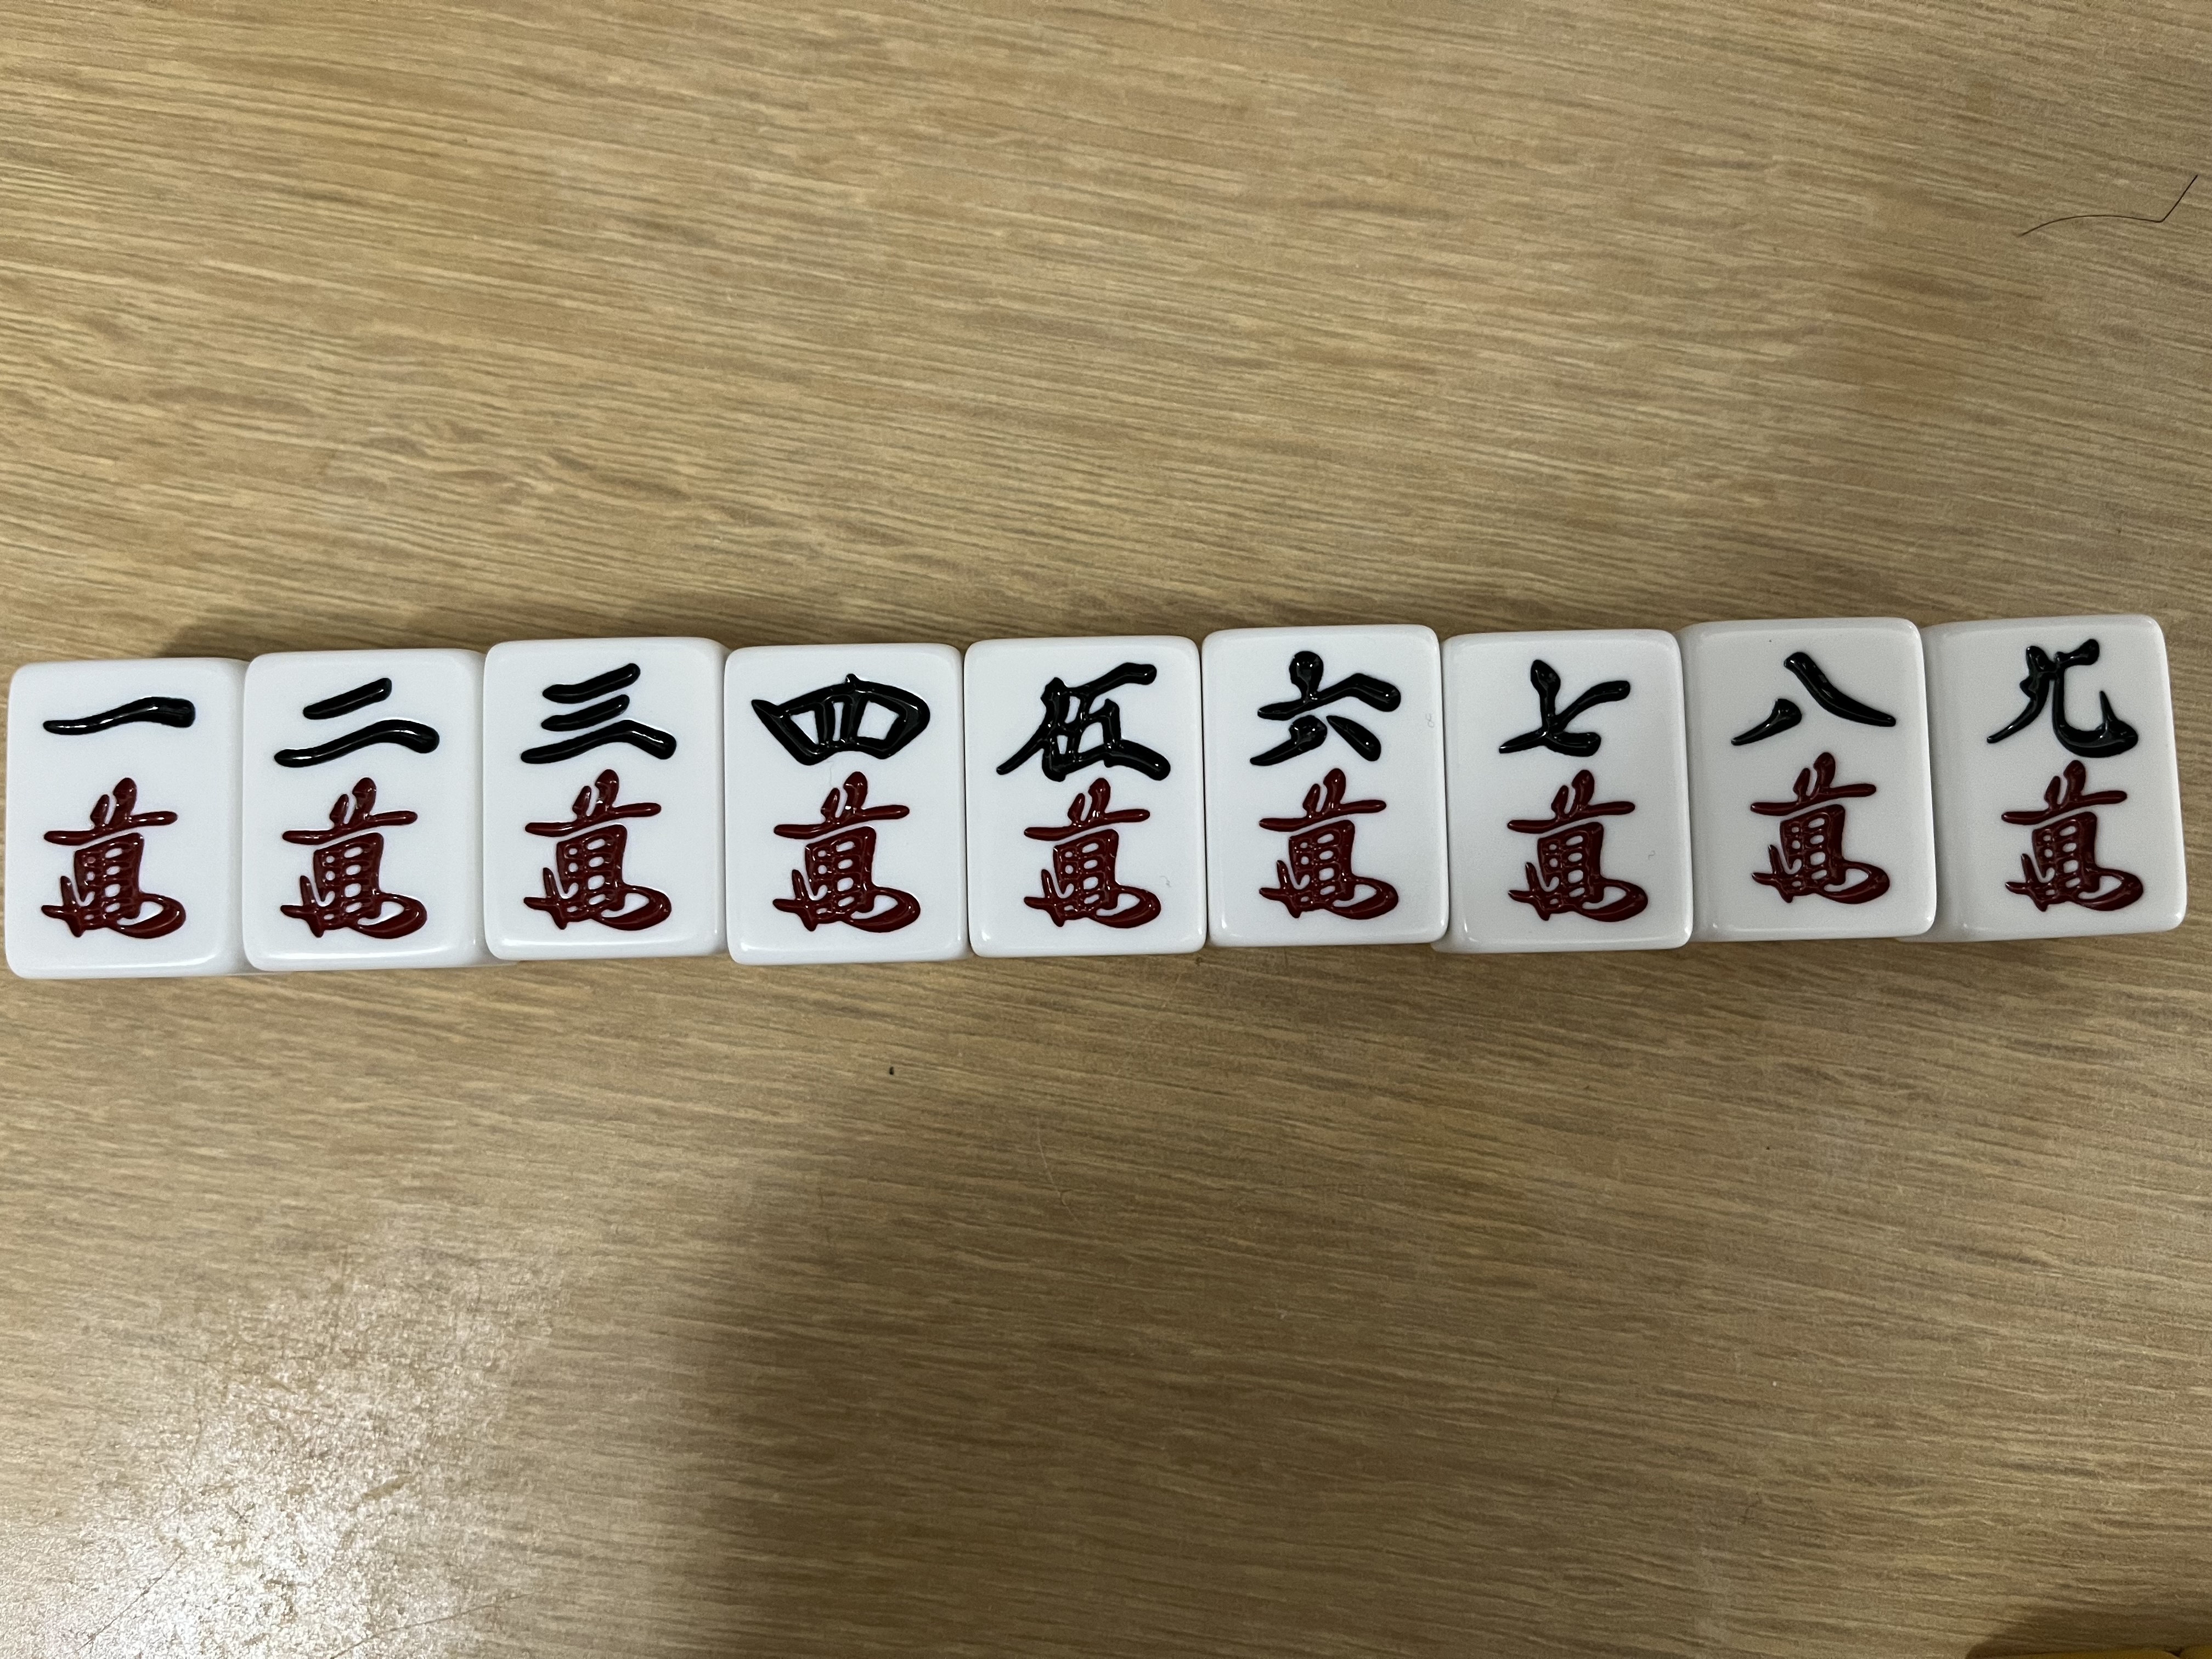1m: (5, 660, 240, 976)
2m: (246, 652, 477, 967)
3m: (482, 638, 725, 962)
4m: (712, 641, 963, 953)
5m: (960, 627, 1211, 960)
6m: (1449, 631, 1698, 965), (1202, 622, 1456, 941)
8m: (1681, 615, 1944, 946)
9m: (1923, 610, 2193, 939)
